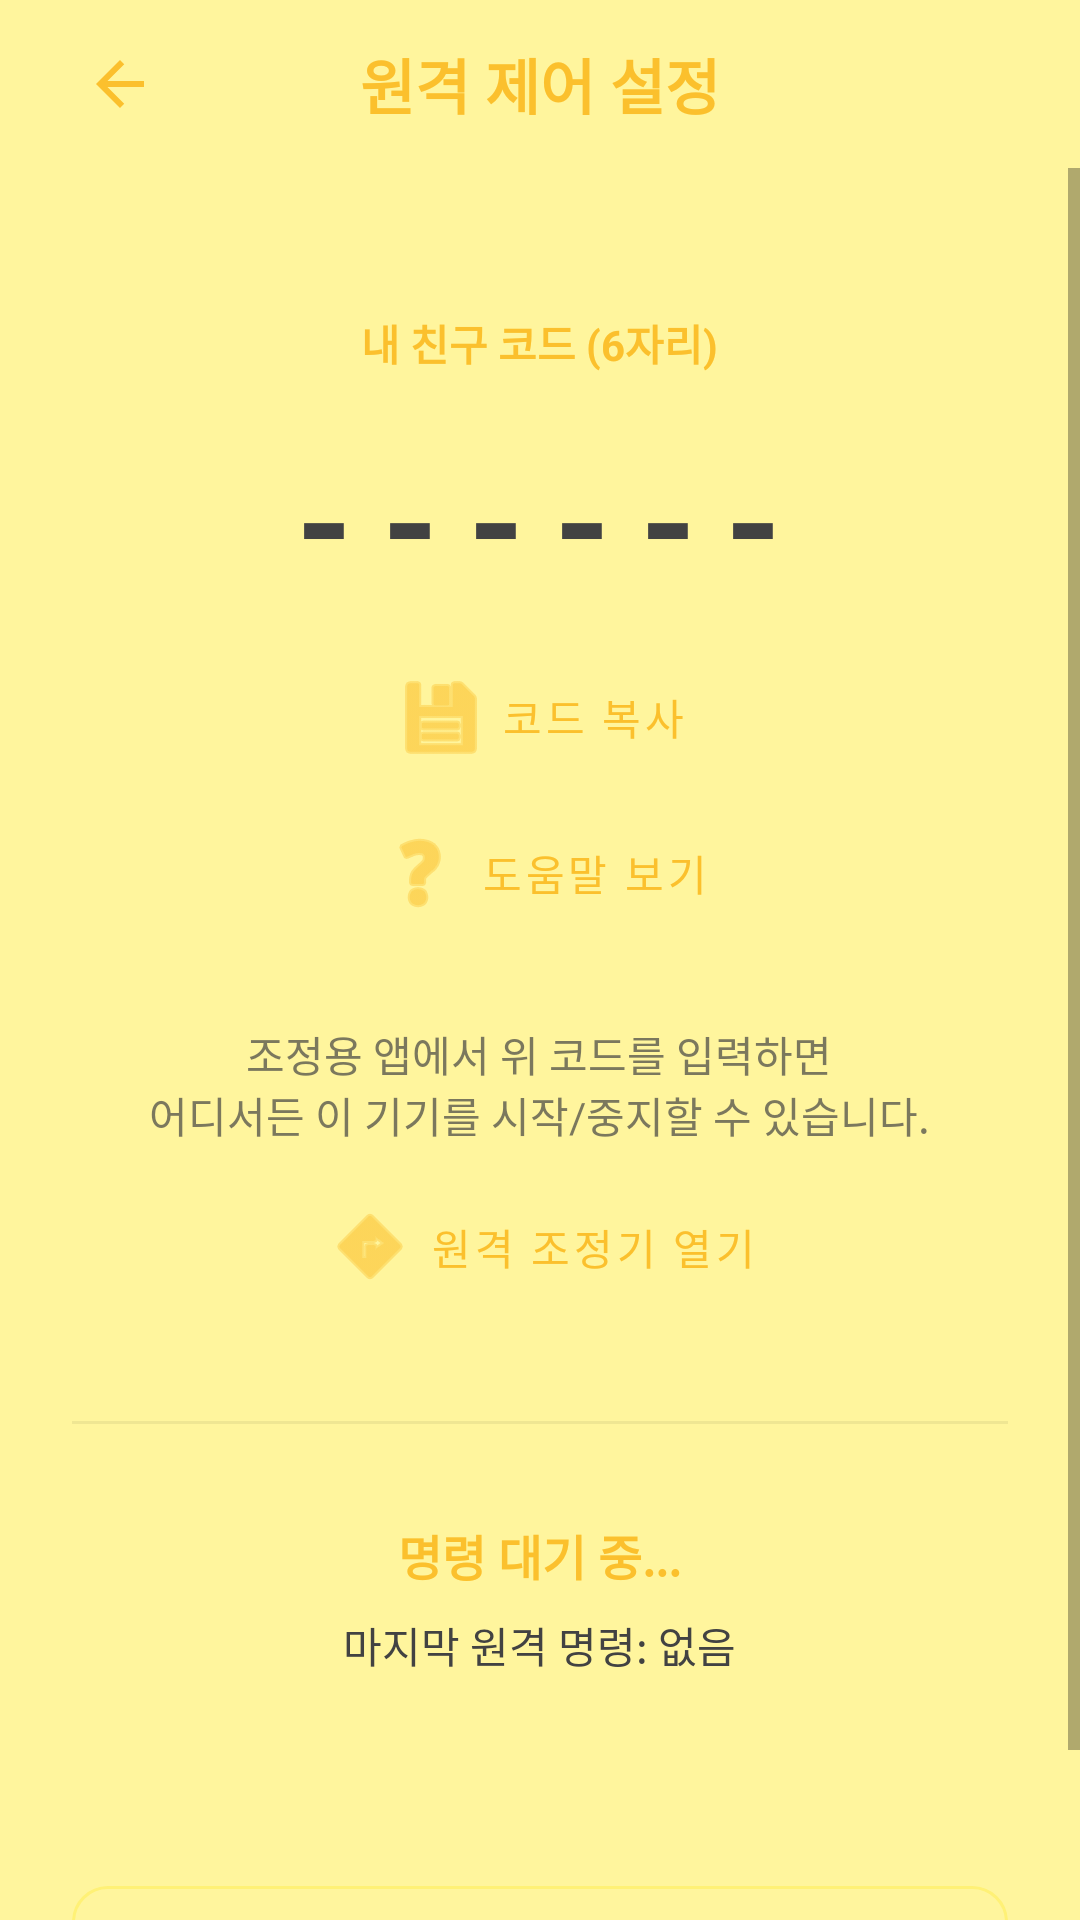

Where to tap for icons on this 1080×1920 app screen, as (x=x, y=y):
뒤로가기: (x=120, y=84)
